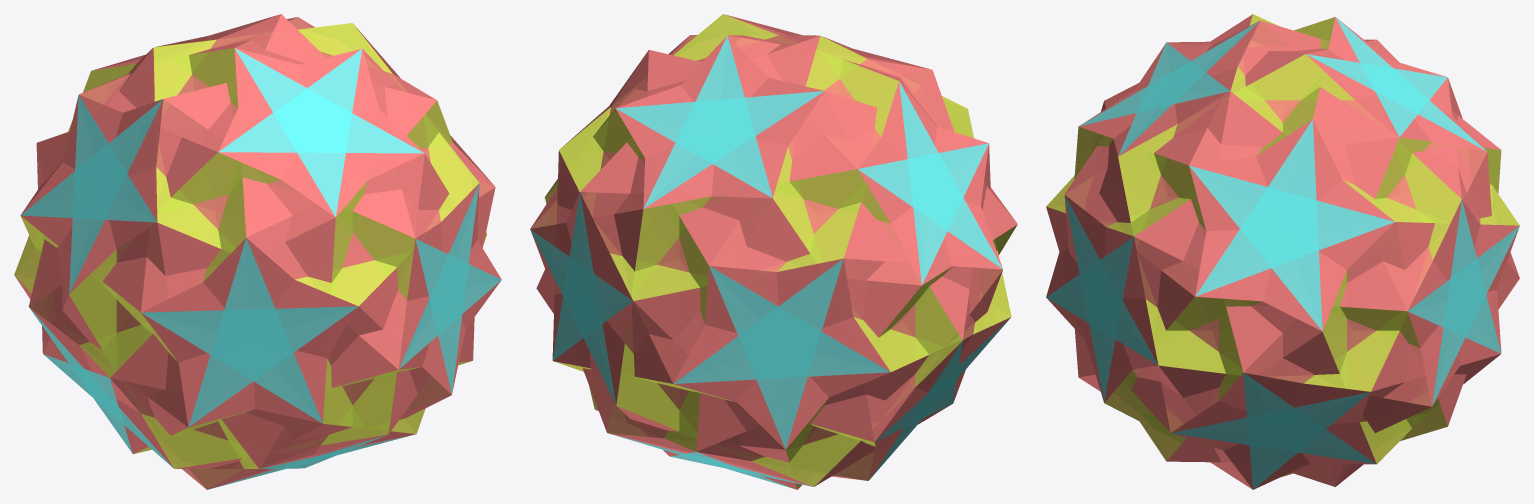
Rendered from SnubIcosidodecadodecahedron.obj.
3 views of the same model, side by side, from view 1: azimuth 30°, elevation 25°; view 2: azimuth 150°, elevation 25°; view 3: azimuth 270°, elevation 25° (orthographic).
Size of the model in its own units: 2.21 by 2.21 by 2.21.
